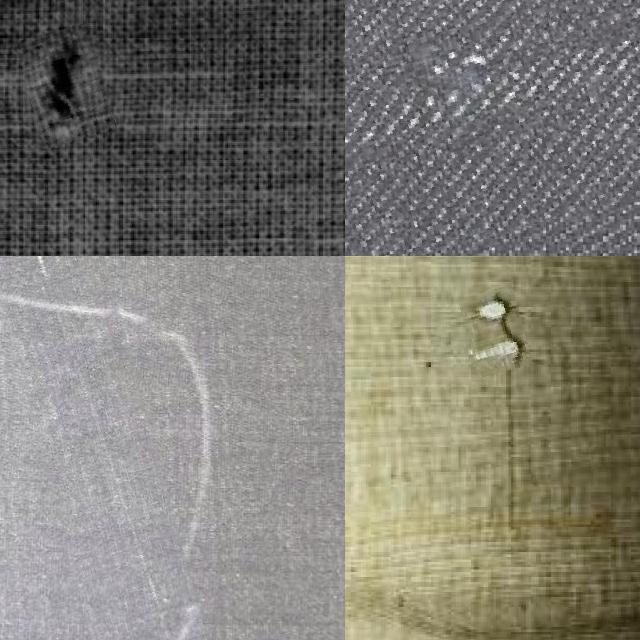other: (22, 26, 110, 144), (463, 287, 529, 375)
stains: (0, 256, 193, 640), (345, 0, 640, 247)
